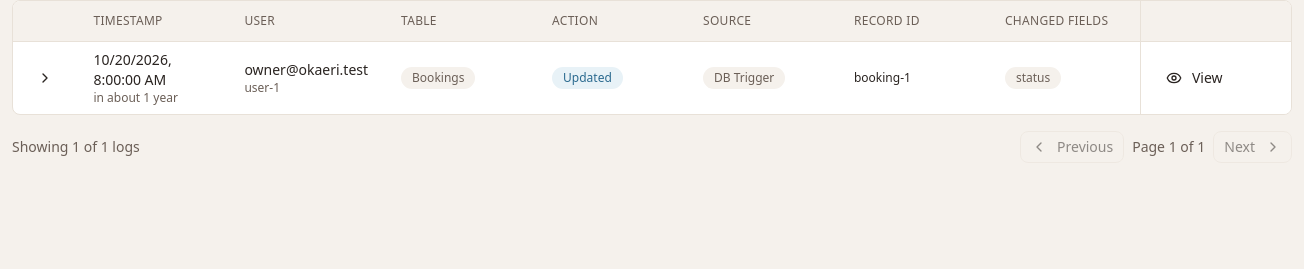
Test case: AuditLogViewer › shows a table on a wide pane whose rows expand to their details
This screenshot has width=1304, height=269.
Step 1. Click the button named "Show details" → (45, 78), box [29, 62, 61, 94]
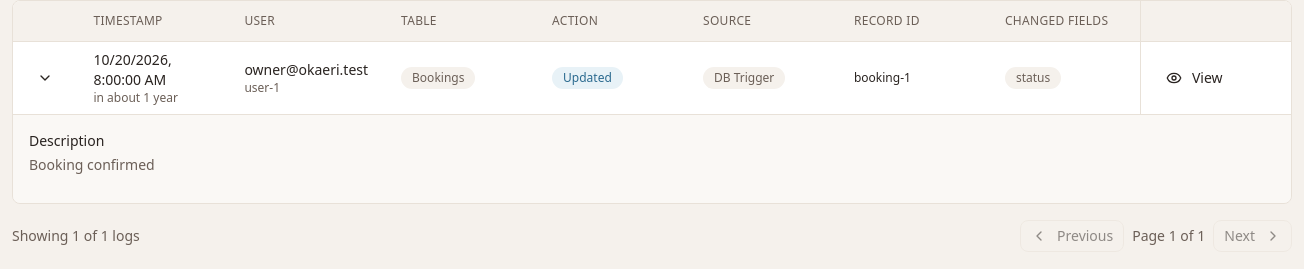
Now the text "Booking confirmed" is shown, box [29, 154, 155, 174]
